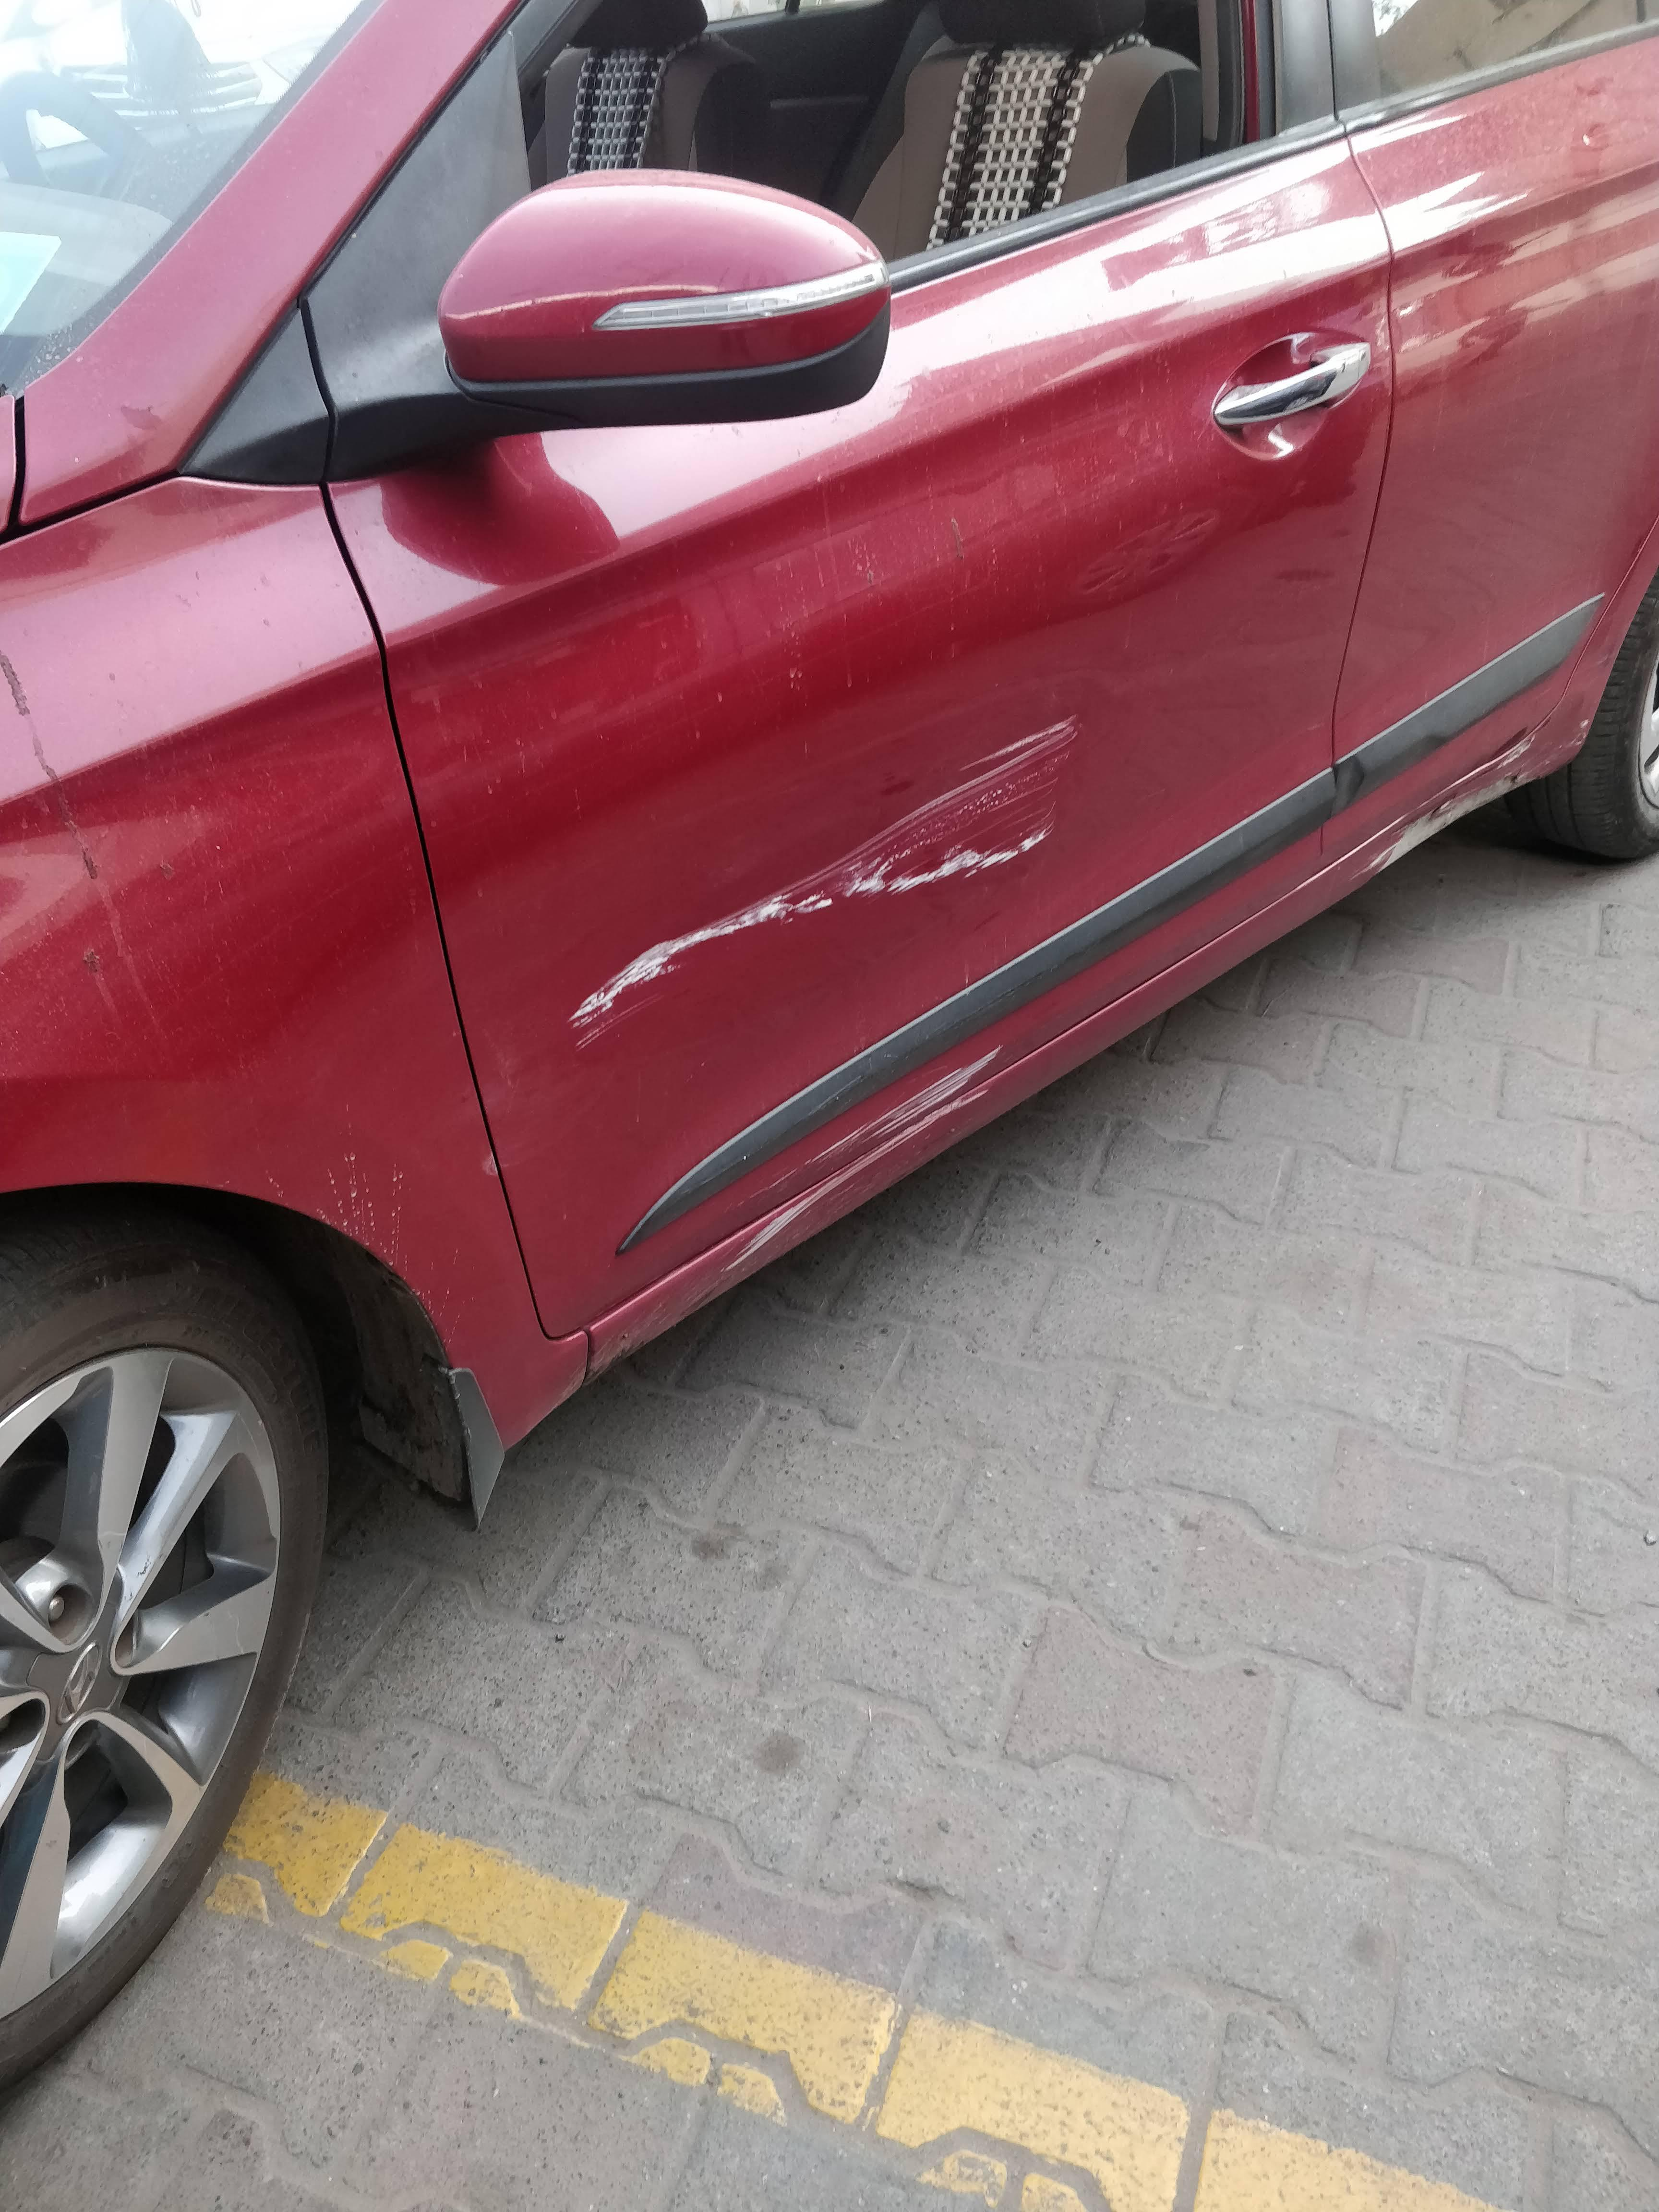doorouter-dent: (504, 378, 1351, 1338)
